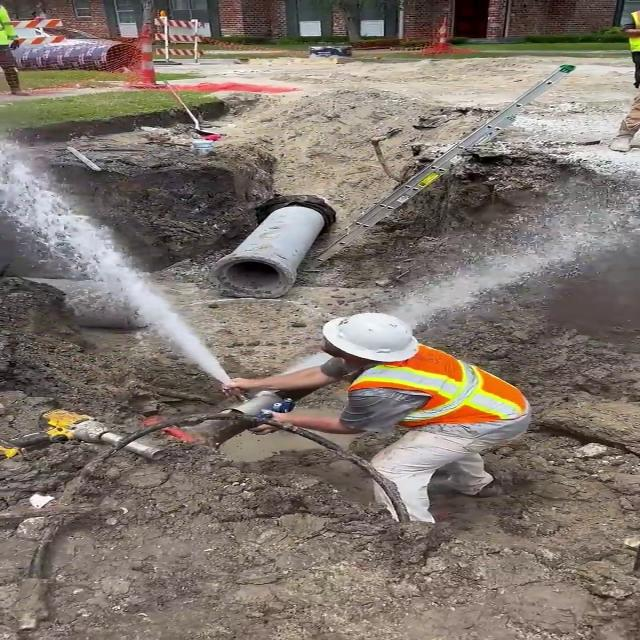leak: (281, 143, 640, 373), (0, 125, 233, 386)
